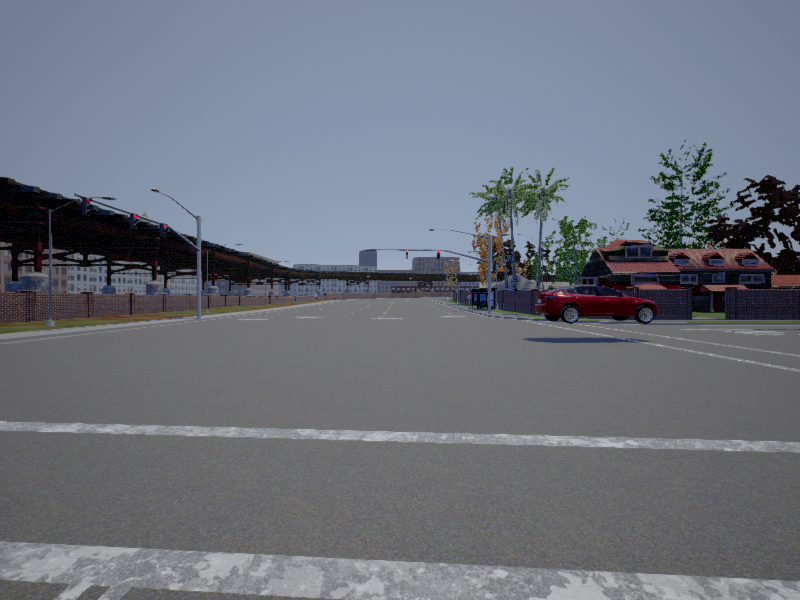Attacker: (538, 283, 657, 324)
